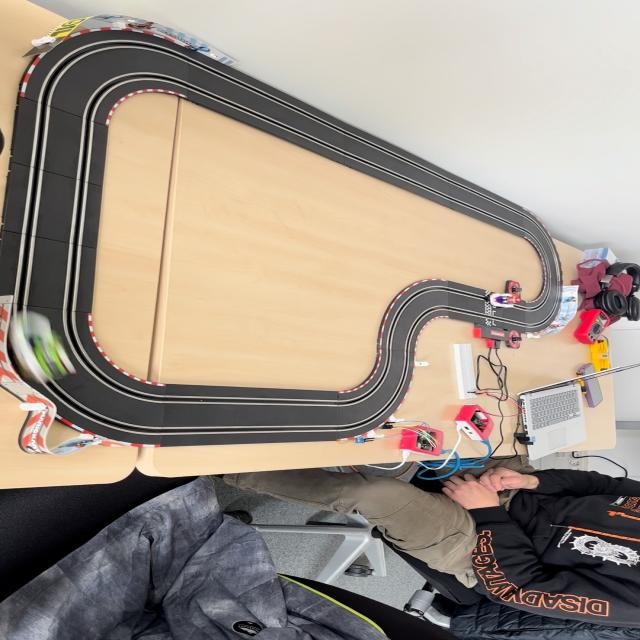mario: (484, 293, 524, 310)
yoshi: (7, 310, 78, 390)
